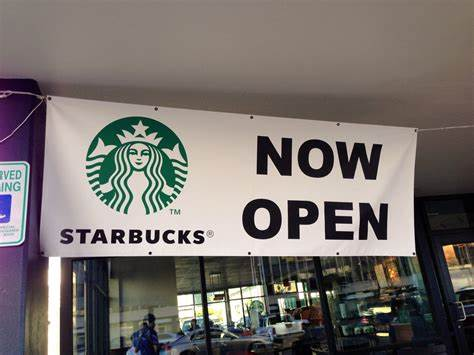starbucks Originale: (78, 113, 204, 223)
